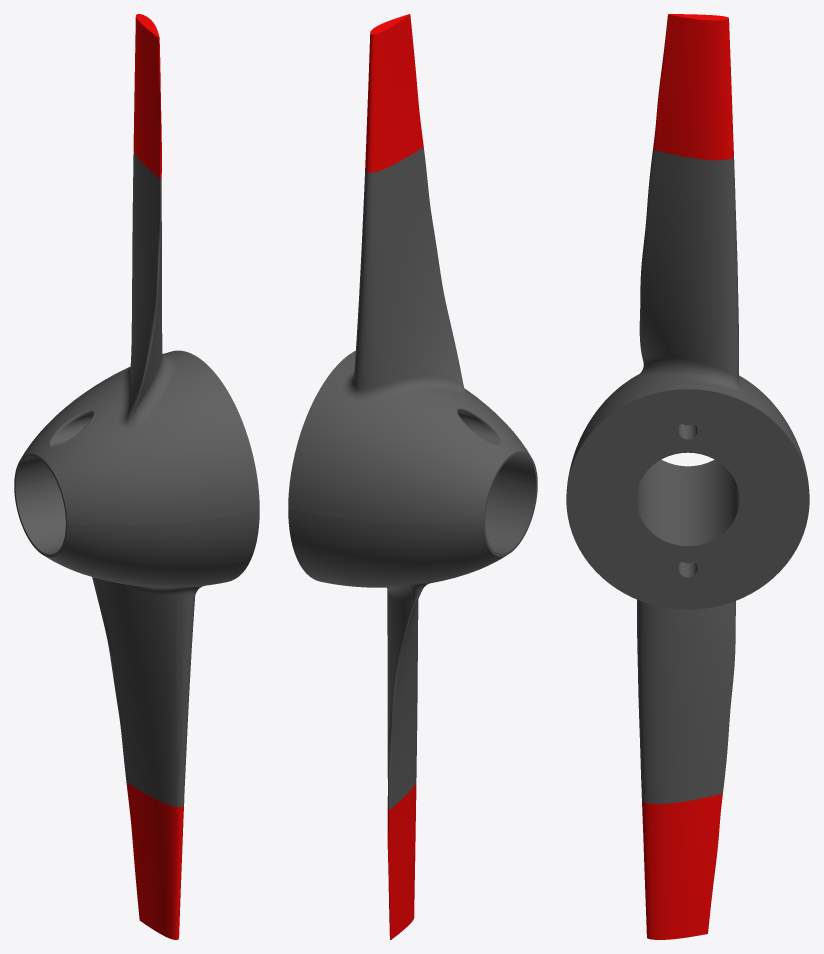
File: lolo_port_propeller.dae
3 renders of one model, left to right at view 1: azimuth 30°, elevation 25°; view 2: azimuth 150°, elevation 25°; view 3: azimuth 270°, elevation 25°, orthographic. The views are drawn at different scales.
Visible parts, largest first — view 1: Brep.007, Brep.006, Brep.005, Brep.004; view 2: Brep.007, Brep.006, Brep.004, Brep.005; view 3: Brep.006, Brep.007, Brep.004, Brep.005.
Part boxes in pixels (<box>): Brep.007: <box>14,151,259,526</box>; Brep.006: <box>14,477,259,806</box>; Brep.005: <box>126,782,183,939</box>; Brep.004: <box>133,14,161,178</box>; Brep.007: <box>288,147,537,525</box>; Brep.006: <box>288,475,537,809</box>; Brep.004: <box>365,14,423,172</box>; Brep.005: <box>387,782,416,939</box>; Brep.006: <box>566,459,809,803</box>; Brep.007: <box>566,149,809,499</box>; Brep.004: <box>653,14,733,160</box>; Brep.005: <box>642,793,722,939</box>.
Bounding box in the file's own units: 0.0746 × 0.096 × 0.4.
